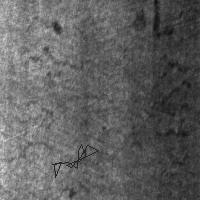crazing: (2, 43, 105, 158), (130, 52, 190, 167), (52, 144, 98, 177)
